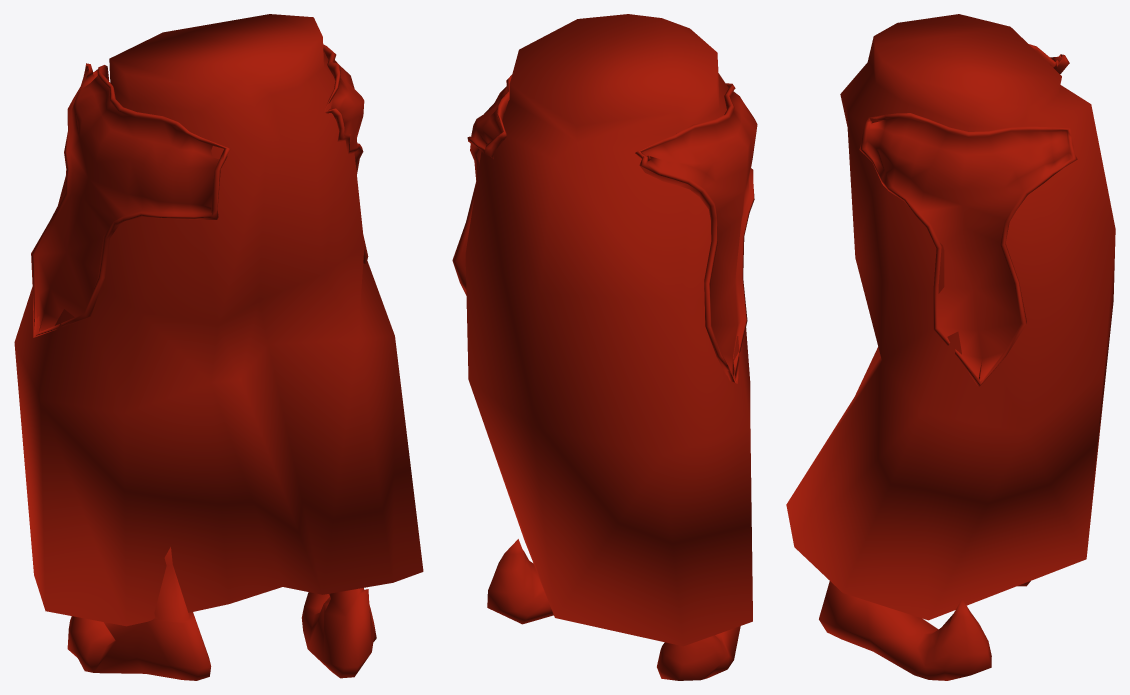
The model's file is bot_000041.obj.
3 views of the same model, side by side, from view 1: azimuth 30°, elevation 25°; view 2: azimuth 150°, elevation 25°; view 3: azimuth 270°, elevation 25° (orthographic). The views are drawn at different scales.
Visible parts, largest first — view 1: LowPoly_Warlock.004_Plane.004; view 2: LowPoly_Warlock.004_Plane.004; view 3: LowPoly_Warlock.004_Plane.004.
Part boxes in pixels (<box>): LowPoly_Warlock.004_Plane.004: <box>14,14,423,680</box>; LowPoly_Warlock.004_Plane.004: <box>452,14,757,680</box>; LowPoly_Warlock.004_Plane.004: <box>786,14,1115,680</box>.
Bounding box in the file's own units: 0.572 × 1.1 × 0.5627.
